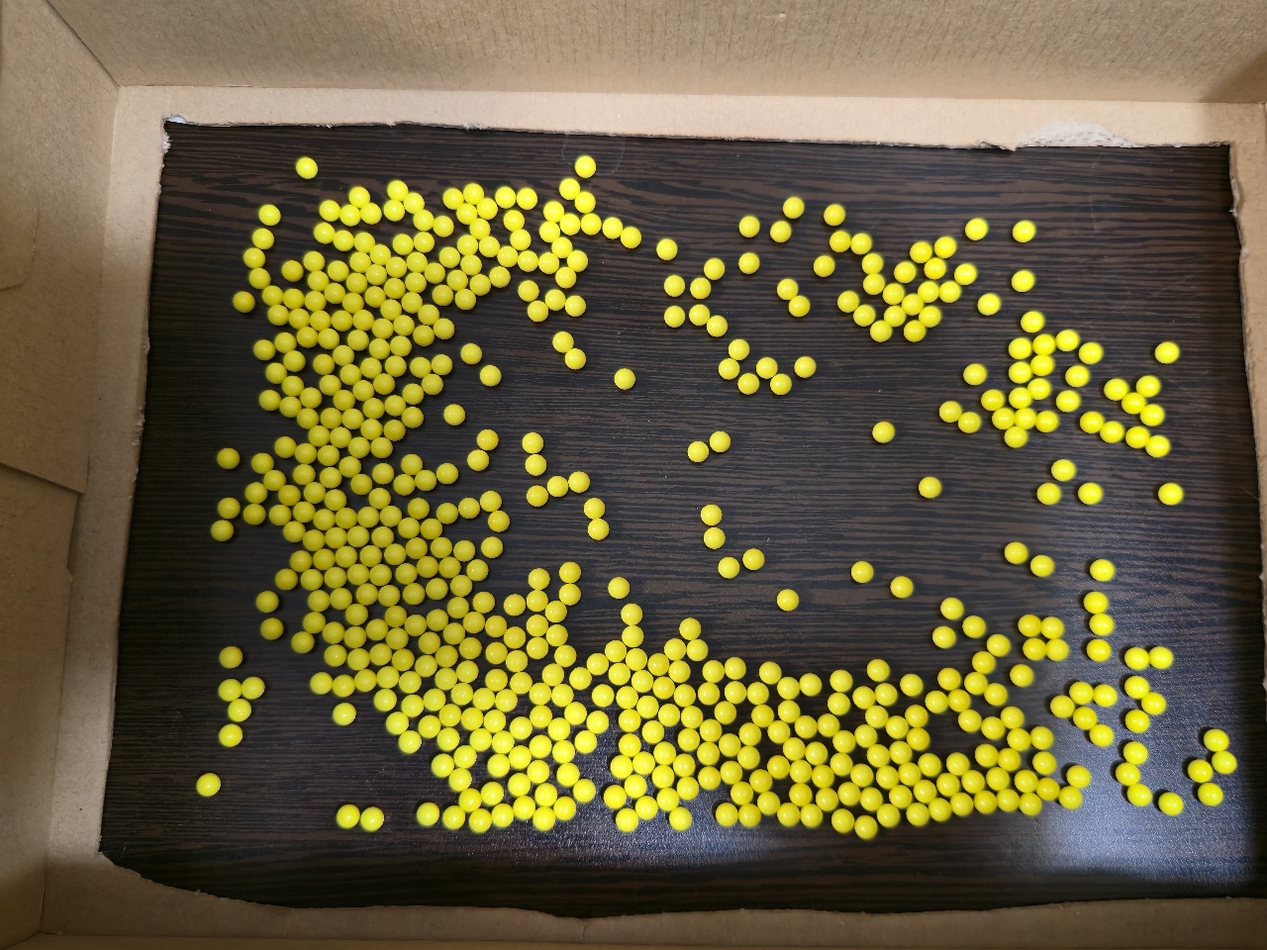yellow_bead: (404, 735, 416, 748), (391, 717, 404, 729), (454, 775, 466, 787), (597, 690, 609, 702), (460, 750, 471, 762), (515, 722, 526, 734), (379, 695, 391, 706), (493, 760, 503, 773), (557, 747, 568, 758), (485, 370, 496, 381), (800, 361, 811, 372), (712, 321, 723, 332), (661, 243, 672, 254), (580, 160, 591, 171), (422, 808, 432, 820), (407, 700, 417, 712), (478, 693, 488, 705), (409, 197, 418, 210), (404, 678, 415, 688), (440, 674, 450, 685), (761, 362, 772, 372), (669, 311, 679, 322), (983, 298, 994, 308), (608, 222, 618, 233), (616, 762, 625, 774), (536, 740, 545, 752), (621, 817, 631, 827), (569, 710, 579, 720), (421, 661, 431, 671), (489, 716, 498, 727), (592, 715, 601, 726), (456, 689, 465, 700), (250, 683, 259, 694), (733, 344, 744, 353), (782, 284, 793, 293), (556, 242, 567, 251), (544, 227, 555, 236), (548, 206, 559, 215), (497, 740, 509, 748), (553, 723, 561, 735), (782, 682, 790, 694), (574, 672, 582, 684), (580, 735, 587, 748), (475, 737, 485, 746), (570, 353, 579, 363), (570, 301, 579, 311), (550, 295, 559, 305), (669, 280, 678, 290), (709, 263, 718, 273), (543, 257, 552, 267), (462, 239, 471, 249), (857, 238, 866, 248), (564, 183, 573, 193), (592, 658, 600, 669), (706, 510, 714, 521), (552, 481, 560, 492), (694, 310, 702, 321), (647, 725, 654, 737), (641, 701, 648, 713), (429, 694, 436, 706), (878, 428, 887, 437), (565, 218, 574, 227), (367, 208, 376, 217), (937, 631, 945, 641), (626, 609, 634, 619), (709, 532, 717, 542), (528, 438, 536, 448), (715, 436, 723, 446), (620, 374, 628, 384), (533, 306, 541, 316), (775, 226, 785, 234), (419, 214, 427, 224), (622, 692, 629, 703), (316, 678, 323, 689), (764, 667, 771, 678), (461, 666, 468, 677), (872, 665, 879, 676), (511, 656, 518, 667), (614, 583, 621, 594), (724, 562, 731, 573), (486, 542, 497, 549), (925, 482, 932, 493), (531, 459, 538, 470), (744, 221, 751, 232), (522, 193, 533, 200), (535, 691, 543, 700), (449, 410, 457, 419), (858, 310, 866, 319), (560, 272, 569, 280), (572, 255, 581, 263), (503, 251, 512, 259), (971, 223, 983, 229), (500, 191, 509, 199), (437, 759, 444, 769), (516, 679, 523, 689), (636, 677, 643, 687), (835, 675, 842, 685), (385, 672, 392, 682), (547, 670, 554, 680), (669, 644, 676, 654), (574, 477, 581, 487), (693, 446, 700, 456), (558, 336, 565, 346), (524, 256, 531, 266), (484, 241, 494, 248), (631, 654, 637, 665), (674, 815, 682, 823), (640, 806, 648, 814), (509, 600, 517, 608), (856, 567, 864, 575), (495, 271, 503, 279), (638, 763, 647, 770), (442, 737, 449, 746), (236, 707, 245, 714), (557, 692, 564, 701), (225, 685, 232, 694), (805, 679, 812, 688), (614, 670, 621, 679), (946, 603, 953, 612), (743, 258, 750, 267), (319, 228, 326, 237), (789, 202, 798, 209), (514, 783, 524, 789), (533, 766, 539, 776), (339, 709, 345, 719), (730, 663, 736, 673), (610, 646, 616, 656), (564, 590, 570, 600), (524, 286, 530, 296), (696, 283, 706, 289), (1017, 275, 1027, 281), (444, 252, 454, 258), (516, 235, 526, 241), (264, 210, 274, 216), (829, 209, 839, 215), (353, 192, 363, 198), (498, 814, 505, 822), (662, 798, 669, 806), (593, 524, 600, 532), (589, 504, 597, 511), (842, 296, 849, 304), (475, 279, 483, 286), (466, 260, 474, 267), (708, 665, 713, 676), (301, 162, 306, 173), (659, 749, 665, 758), (504, 698, 510, 707), (703, 689, 709, 698), (752, 688, 758, 697), (550, 606, 556, 615), (868, 280, 877, 286), (534, 574, 539, 584), (944, 406, 954, 411), (466, 348, 476, 353), (702, 752, 709, 759), (832, 700, 839, 707), (627, 631, 634, 638), (748, 554, 755, 561), (485, 496, 492, 503), (473, 455, 480, 462), (578, 789, 586, 795), (861, 732, 867, 740), (705, 726, 711, 734), (686, 714, 692, 722), (560, 652, 566, 660), (969, 370, 977, 376), (728, 363, 734, 371), (460, 294, 468, 300), (412, 257, 420, 263), (398, 238, 406, 244), (389, 205, 397, 211), (489, 791, 494, 800), (427, 379, 436, 384), (452, 275, 461, 280), (900, 266, 909, 271), (474, 820, 481, 826), (538, 818, 545, 824), (657, 775, 664, 781), (535, 714, 541, 721), (663, 712, 669, 719), (783, 707, 789, 714), (674, 668, 680, 675), (551, 629, 557, 636), (685, 624, 692, 630), (472, 565, 479, 571), (464, 503, 471, 509), (747, 378, 753, 385), (626, 232, 633, 238), (541, 792, 546, 800), (730, 688, 735, 696), (782, 595, 790, 600), (437, 359, 445, 364), (439, 324, 447, 329), (890, 311, 898, 316), (890, 289, 898, 294), (948, 286, 956, 291), (867, 258, 875, 263), (468, 188, 476, 193), (392, 185, 397, 193), (516, 756, 525, 760), (624, 717, 630, 723), (482, 434, 488, 440), (391, 361, 400, 365), (424, 310, 433, 314), (407, 298, 416, 302), (961, 268, 970, 272), (819, 260, 825, 266), (360, 238, 366, 244), (1021, 226, 1030, 230), (440, 221, 446, 227), (586, 219, 595, 223), (564, 772, 569, 779), (870, 714, 877, 719), (882, 690, 887, 697), (906, 680, 913, 685), (532, 644, 537, 651), (416, 362, 423, 367), (374, 343, 382, 347), (258, 234, 266, 238), (723, 813, 728, 819), (682, 786, 688, 791), (683, 736, 689, 741), (744, 732, 749, 738), (931, 701, 936, 707), (858, 695, 864, 700), (695, 644, 701, 649), (449, 628, 455, 633), (532, 620, 537, 626), (532, 596, 537, 602), (564, 567, 569, 573), (340, 350, 346, 355), (1066, 334, 1072, 339), (794, 301, 800, 306), (926, 286, 932, 291), (313, 276, 319, 281), (372, 269, 378, 274), (377, 249, 383, 254), (340, 236, 345, 242), (509, 215, 514, 221), (448, 193, 454, 198), (450, 815, 454, 822), (773, 730, 780, 734), (390, 549, 397, 553), (422, 475, 429, 479), (408, 459, 415, 463), (325, 380, 332, 384), (355, 257, 362, 261), (580, 198, 587, 202), (812, 751, 817, 756), (347, 369, 352, 374), (478, 224, 483, 229), (325, 205, 330, 210), (485, 203, 490, 208), (704, 776, 710, 780), (796, 770, 800, 776), (490, 676, 496, 680), (355, 656, 359, 662), (458, 581, 464, 585), (389, 511, 393, 517), (271, 368, 277, 372), (369, 363, 375, 367), (876, 326, 882, 330), (400, 321, 406, 325), (411, 278, 419, 281), (393, 262, 399, 266), (419, 238, 427, 241), (480, 599, 487, 602), (384, 592, 391, 595), (396, 341, 403, 344), (354, 335, 361, 338), (763, 801, 768, 805), (680, 763, 684, 768), (744, 754, 749, 758), (790, 747, 795, 751), (726, 742, 730, 747), (427, 725, 432, 729), (720, 710, 725, 714), (471, 618, 476, 622), (434, 585, 439, 589), (896, 584, 901, 588), (355, 533, 360, 537), (378, 531, 383, 535), (407, 522, 411, 527), (443, 508, 448, 512), (445, 468, 449, 473), (380, 468, 384, 473), (356, 442, 360, 447), (349, 414, 354, 418), (411, 389, 416, 393), (1017, 367, 1022, 371), (259, 345, 264, 349), (380, 324, 385, 328), (309, 256, 314, 260), (464, 210, 469, 214), (346, 210, 351, 214), (631, 783, 634, 789), (307, 576, 313, 579), (376, 570, 382, 573), (462, 545, 465, 551), (379, 442, 385, 445), (360, 386, 366, 389), (250, 253, 256, 256), (897, 749, 901, 753), (365, 590, 369, 594), (356, 570, 360, 574), (218, 525, 222, 529), (533, 491, 537, 495), (910, 299, 914, 303), (336, 266, 340, 270), (309, 169, 313, 173), (836, 819, 841, 822), (839, 739, 844, 742), (454, 604, 459, 607), (1015, 547, 1018, 552), (330, 472, 333, 477), (391, 401, 396, 404), (283, 337, 286, 342), (389, 305, 394, 308), (439, 290, 444, 293), (432, 268, 437, 271), (807, 815, 810, 819), (845, 792, 848, 796), (727, 772, 731, 775), (894, 725, 898, 728), (435, 616, 439, 619), (405, 568, 408, 572), (369, 550, 372, 554), (366, 513, 370, 516), (377, 493, 380, 497), (313, 488, 317, 491), (402, 480, 406, 483), (338, 432, 342, 435), (368, 425, 372, 428), (266, 395, 270, 398), (309, 393, 312, 397), (780, 379, 783, 383), (292, 356, 295, 360), (327, 334, 331, 337), (312, 296, 316, 299), (522, 808, 527, 810), (953, 765, 958, 767), (801, 726, 806, 728), (274, 311, 279, 313), (256, 273, 261, 275), (368, 813, 371, 816), (736, 793, 739, 796), (1047, 491, 1050, 494), (348, 462, 351, 465), (303, 448, 306, 451), (383, 379, 386, 382), (837, 763, 841, 765), (995, 644, 999, 646), (353, 632, 355, 636), (415, 620, 417, 624), (337, 596, 341, 598), (496, 518, 500, 520), (289, 402, 291, 406), (372, 292, 376, 294), (835, 238, 839, 240), (859, 774, 862, 776), (471, 717, 473, 720), (493, 652, 496, 654), (379, 651, 381, 654), (396, 635, 398, 638), (356, 611, 358, 614), (344, 553, 347, 555), (431, 523, 433, 526), (324, 516, 327, 518), (411, 414, 413, 417), (372, 404, 374, 407), (1017, 343, 1019, 346), (333, 289, 335, 292), (944, 241, 946, 244), (883, 816, 887, 817), (937, 808, 939, 810), (364, 679, 366, 681), (229, 657, 231, 659), (335, 653, 337, 655), (428, 639, 430, 641), (318, 598, 320, 600), (414, 592, 416, 594), (440, 544, 442, 546), (334, 534, 338, 535), (303, 470, 305, 472), (968, 420, 970, 422), (292, 383, 294, 385), (1168, 349, 1170, 351), (351, 298, 353, 300), (271, 291, 273, 293), (355, 278, 357, 280), (824, 799, 827, 800), (825, 724, 828, 725), (1011, 716, 1014, 717), (335, 575, 338, 576), (862, 827, 864, 828), (634, 792, 635, 794), (513, 636, 515, 637), (494, 624, 496, 625), (294, 528, 295, 530), (304, 509, 305, 511), (328, 452, 330, 453), (318, 432, 320, 433), (423, 331, 425, 332), (361, 317, 363, 318), (393, 283, 394, 285), (369, 825, 370, 826), (367, 824, 368, 825), (347, 815, 348, 816), (898, 798, 899, 799), (971, 781, 972, 782), (342, 719, 343, 720), (451, 715, 452, 716), (974, 681, 975, 682), (947, 678, 948, 679), (227, 659, 228, 660), (302, 641, 303, 642), (376, 626, 377, 627), (266, 600, 267, 601), (279, 513, 280, 514), (335, 497, 336, 498), (273, 478, 274, 479), (1065, 468, 1066, 469)
